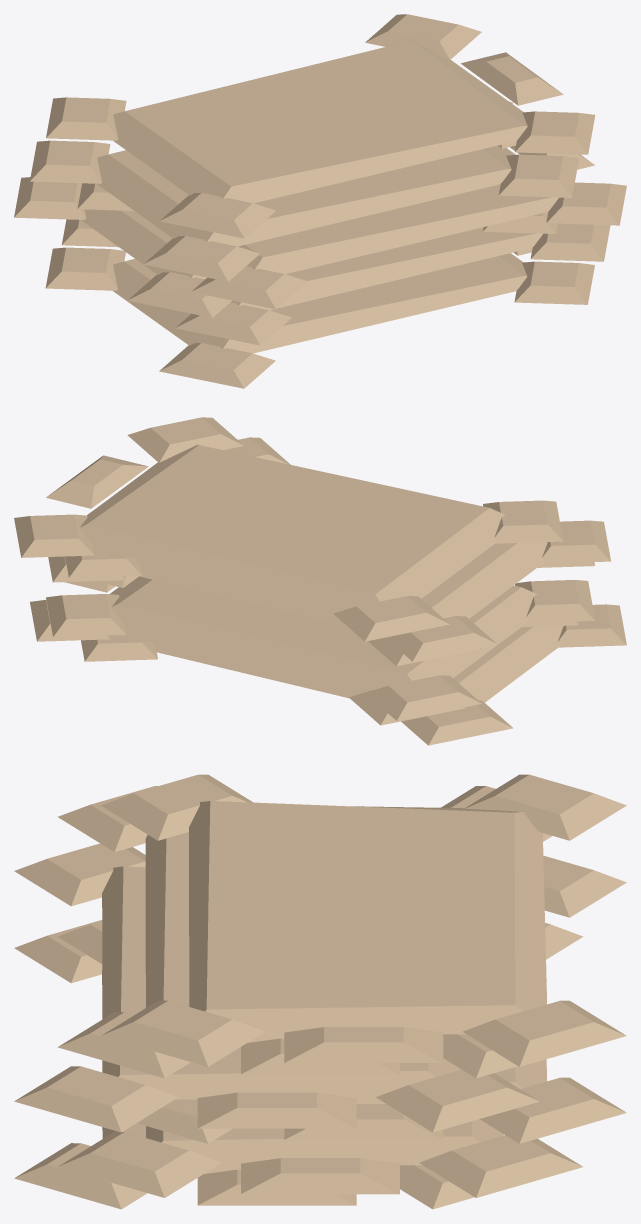
File: item_012_cured_hide_l.glb
The picture shows the model from 3 angles, top to bottom: view 1: azimuth 30°, elevation 25°; view 2: azimuth 150°, elevation 25°; view 3: azimuth 270°, elevation 25°; orthographic projection. The views are drawn at different scales.
Visible parts, largest first — view 1: item_012_cured_hide_l; view 2: item_012_cured_hide_l; view 3: item_012_cured_hide_l.
Boxes of the visible parts, x1,y1,x2,y2 form: item_012_cured_hide_l: (14,14,626,388); item_012_cured_hide_l: (14,417,626,745); item_012_cured_hide_l: (14,774,626,1209).
Size of the model in its own units: 1.03 by 0.2876 by 0.8476.
